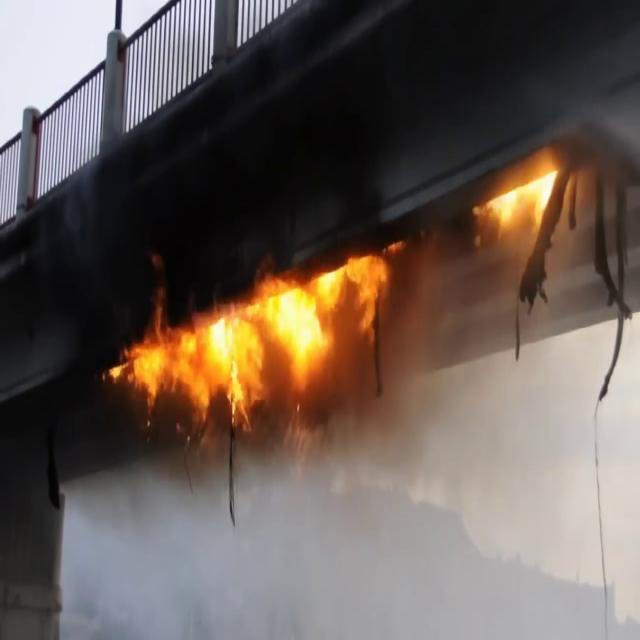Fire: (118, 253, 386, 422), (478, 154, 566, 231)
